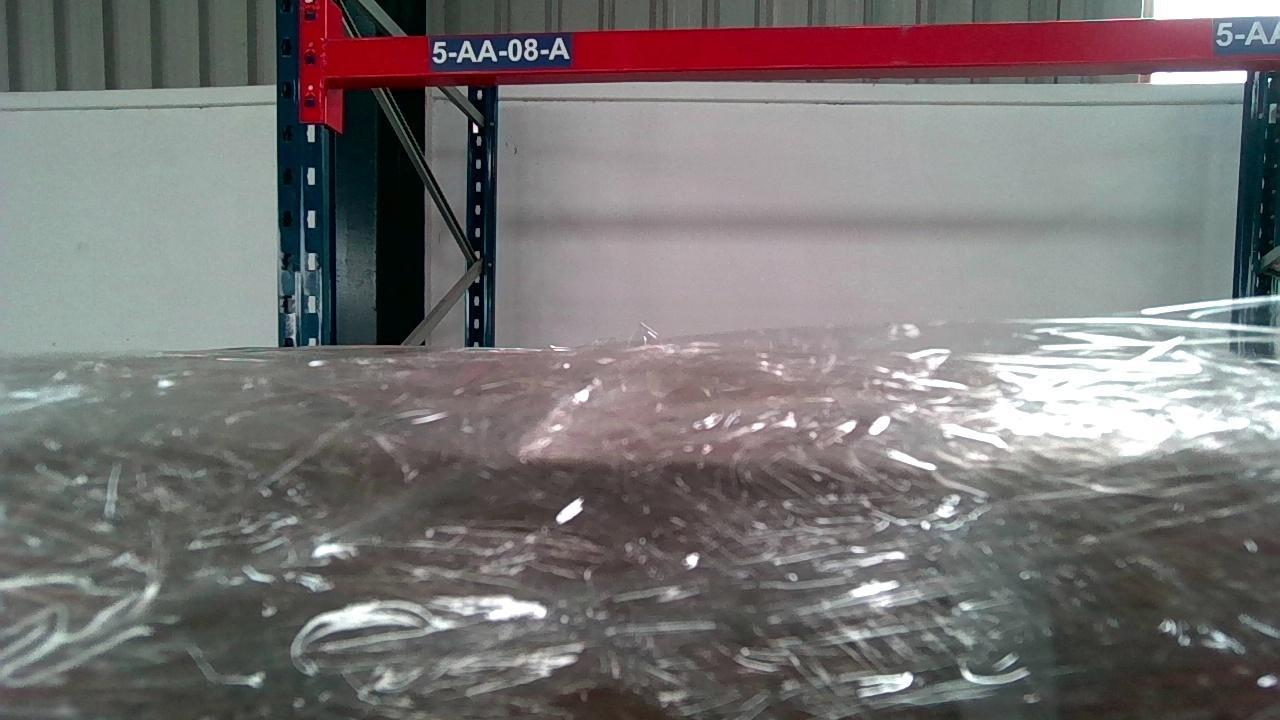h_rack: (324, 18, 1279, 83)
